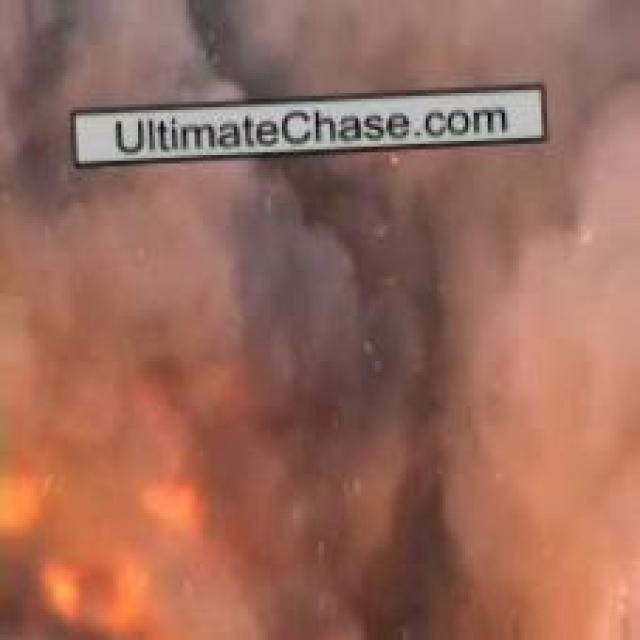smoke: (34, 19, 616, 607)
